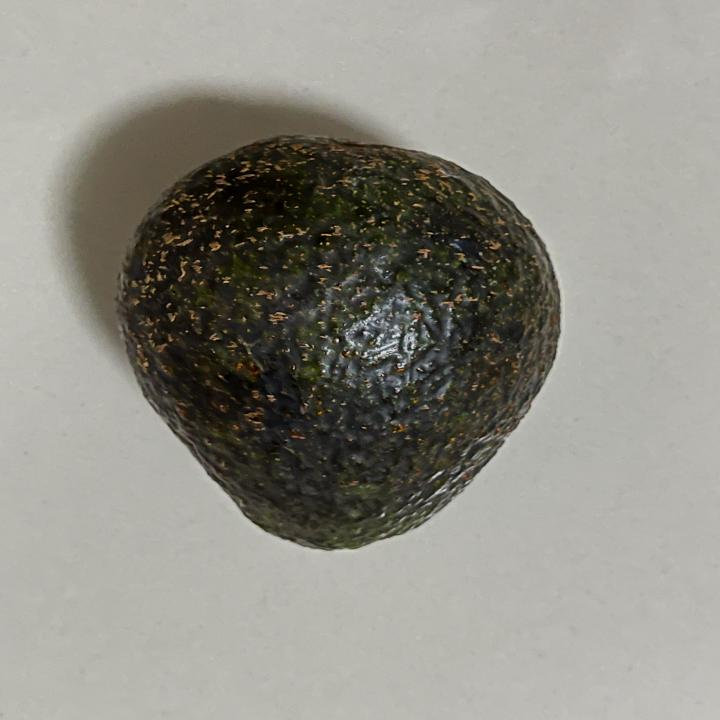Level1: (107, 128, 570, 563)
